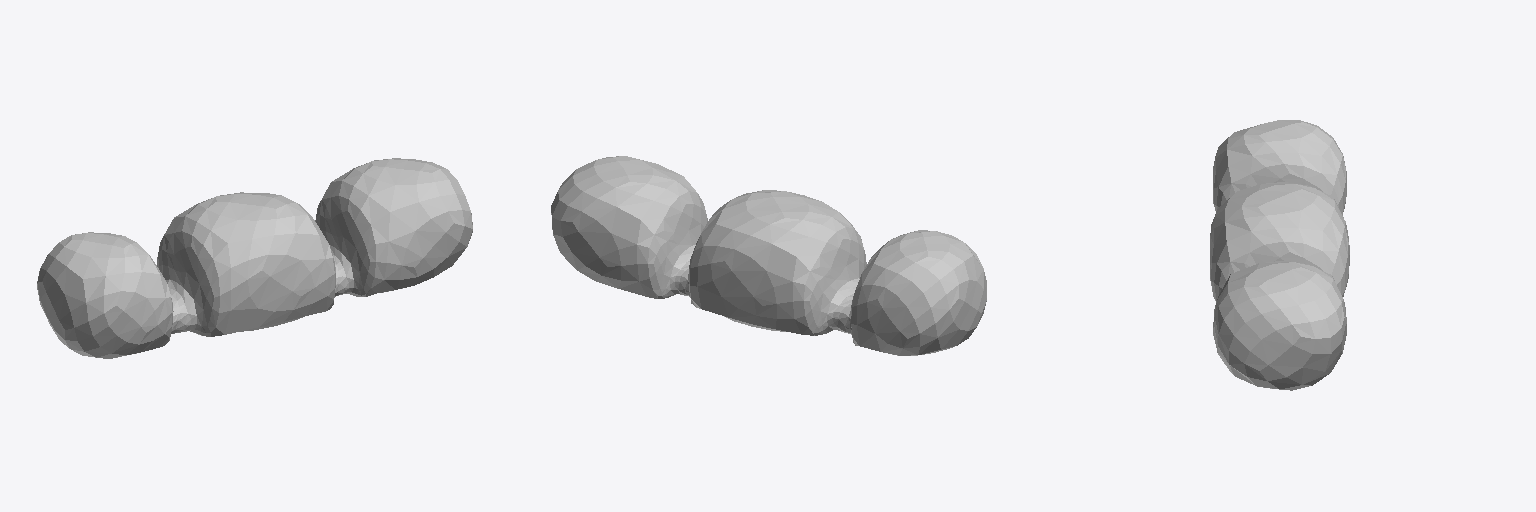
File: simplemap.obj
3 views of the same model, side by side, from view 1: azimuth 30°, elevation 25°; view 2: azimuth 150°, elevation 25°; view 3: azimuth 270°, elevation 25° (orthographic).
Bounding box in the file's own units: 6.62 × 1.68 × 1.98.